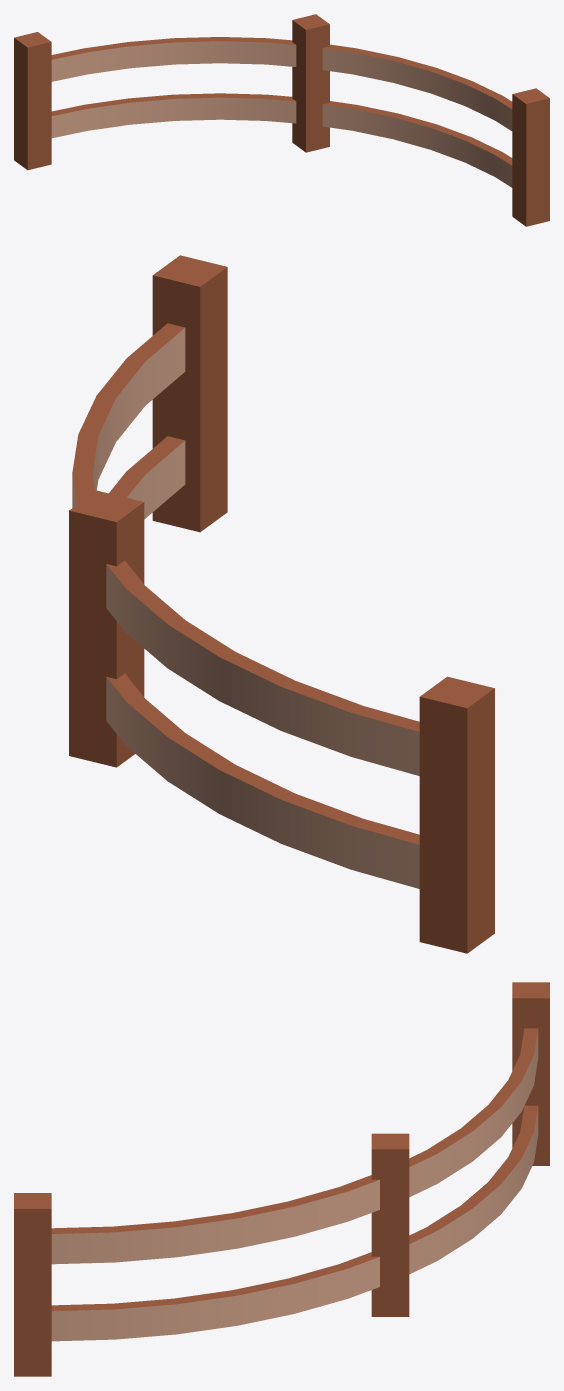
The model's file is fence_bendCenter.glb.
3 views of the same model, one above another, from view 1: azimuth 30°, elevation 25°; view 2: azimuth 150°, elevation 25°; view 3: azimuth 270°, elevation 25° (orthographic). The views are drawn at different scales.
Parts seen in each view (by area): view 1: fence_bendCenter; view 2: fence_bendCenter; view 3: fence_bendCenter.
Boxes of the visible parts, x1,y1,x2,y2 form: fence_bendCenter: (14, 14, 549, 226); fence_bendCenter: (69, 255, 494, 953); fence_bendCenter: (14, 982, 549, 1376).
Bounding box in the file's own units: 1 × 0.345 × 1.
